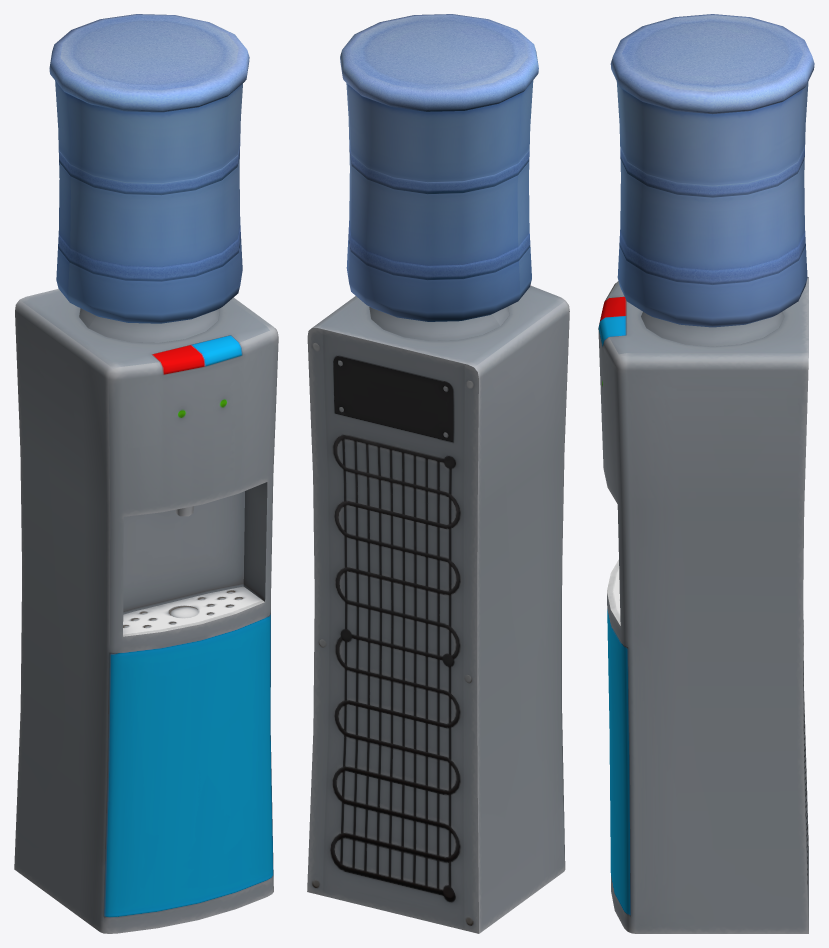
File: OfficeWaterDispenser02.FBX
3 renders of one model, left to right at view 1: azimuth 30°, elevation 25°; view 2: azimuth 150°, elevation 25°; view 3: azimuth 270°, elevation 25°, orthographic.
Parts seen in each view (by area): view 1: OfficeWaterDispenser02; view 2: OfficeWaterDispenser02; view 3: OfficeWaterDispenser02.
Part boxes in pixels (x1,y1,x2,y2): OfficeWaterDispenser02: (14,14,278,933); OfficeWaterDispenser02: (307,14,569,933); OfficeWaterDispenser02: (598,14,814,933).
Size of what is drawn, in the model's own units: 0.4639 by 2.1 by 0.4912.
